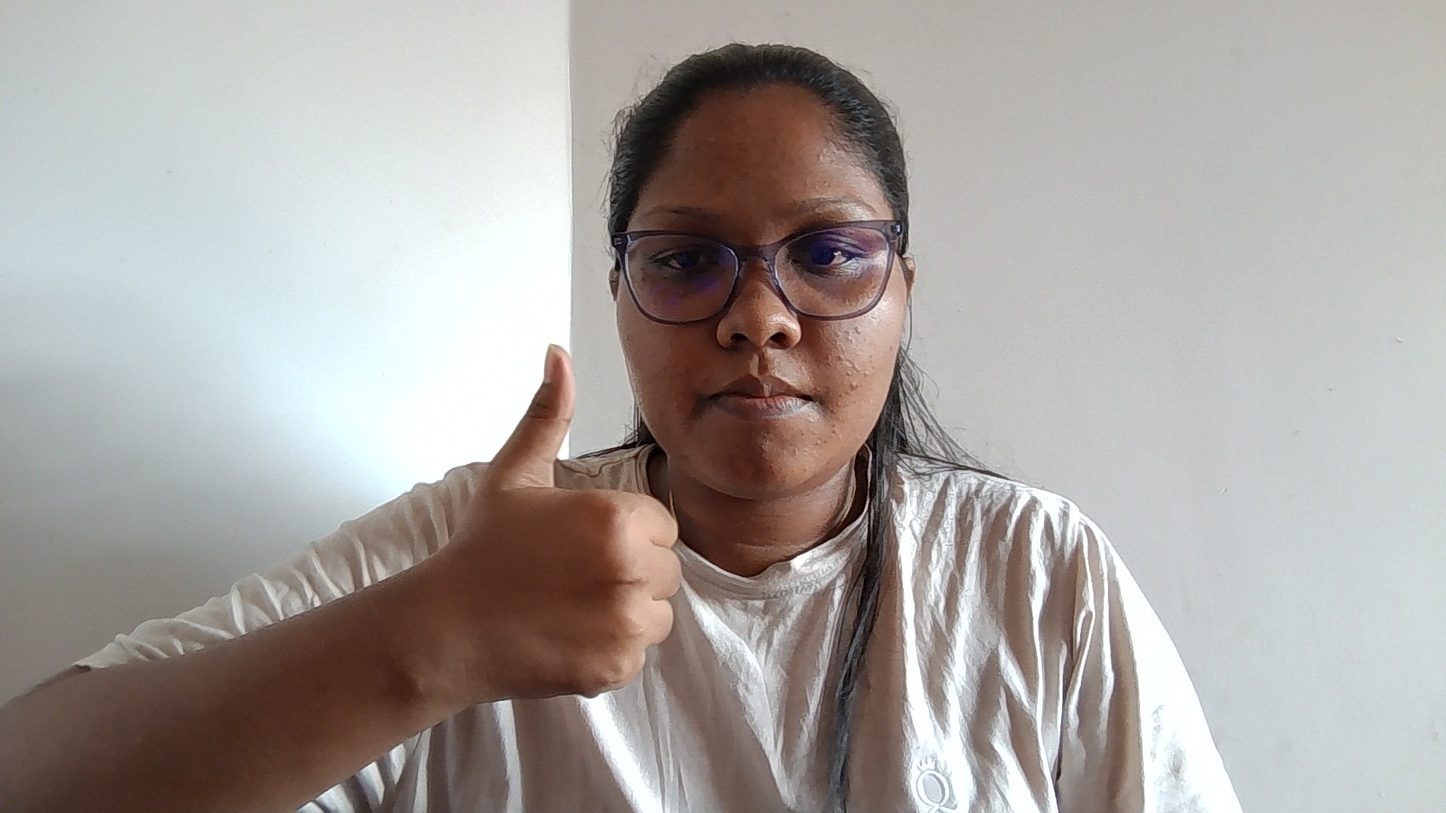Thumbs Up: (281, 263, 817, 750)
